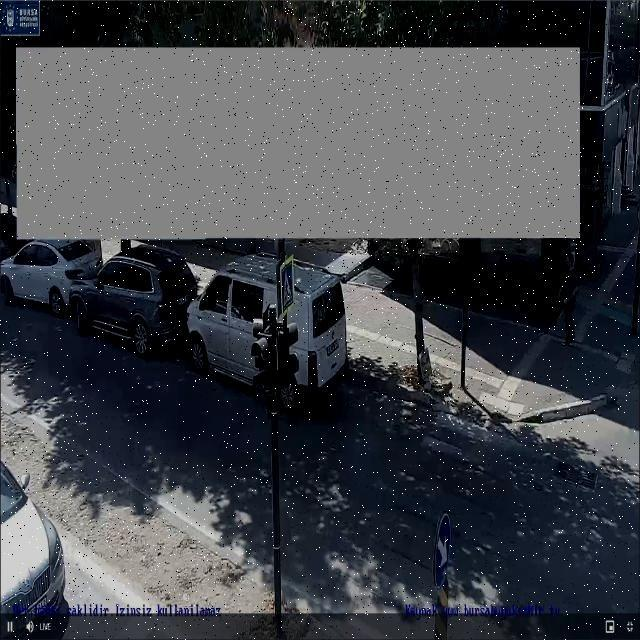Car: (92, 244, 192, 342), (0, 232, 92, 314)
Van: (185, 260, 352, 397)
